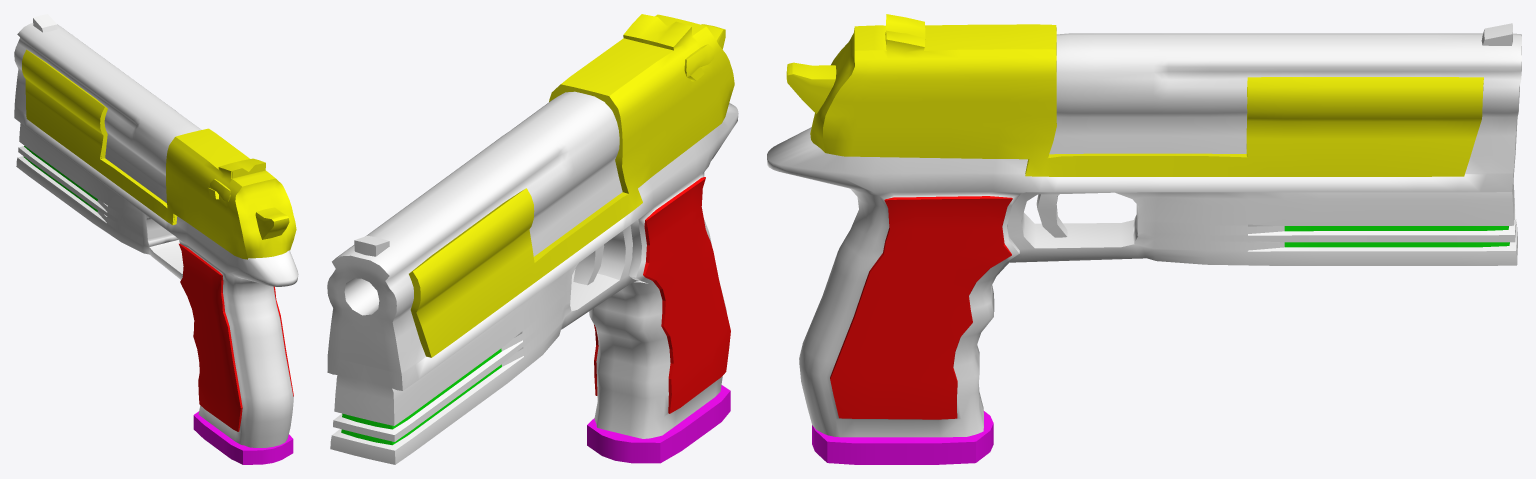
Rendered from Pistola_CelShading.fbx.
3 renders of one model, left to right at view 1: azimuth 30°, elevation 25°; view 2: azimuth 150°, elevation 25°; view 3: azimuth 270°, elevation 25°, orthographic. The views are drawn at different scales.
Visible parts, largest first — view 1: pistola_low; view 2: pistola_low; view 3: pistola_low.
Part boxes in pixels (box(x1,y1,x2,y2)): pistola_low: box(14, 14, 298, 464); pistola_low: box(327, 14, 738, 464); pistola_low: box(767, 14, 1521, 464).
Bounding box in the file's own units: 5.13 × 22.67 × 36.98.
